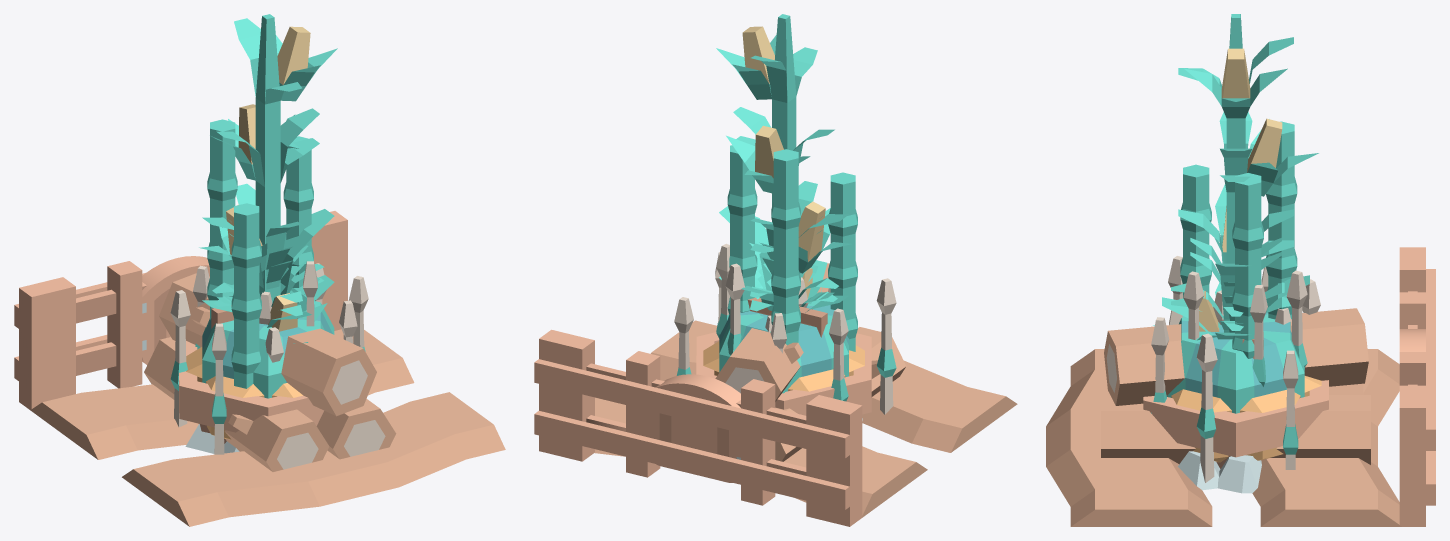
The model's file is crops.glb.
3 renders of one model, left to right at view 1: azimuth 30°, elevation 25°; view 2: azimuth 150°, elevation 25°; view 3: azimuth 270°, elevation 25°, orthographic. The views are drawn at different scales.
Parts seen in each view (by area): view 1: crops_dirtDoubleRow, log_stack, crops_bambooStageB, fence_simple, crops_cornStageC, crops_wheatStageB, Mesh fence_gate, corn (×4), fence_planks, pot_large, crop_melon, gate (+7 smaller); view 2: fence_planks, crops_dirtDoubleRow, crops_bambooStageB, fence_simple, corn (×3), crops_wheatStageB, Mesh fence_gate, log_stack, gate, crops_cornStageC, crop_melon, pot_large (+7 smaller); view 3: crops_dirtDoubleRow, log_stack, crops_bambooStageB, crops_wheatStageB, crop_melon, pot_large, corn (×3), fence_simple, fence_planks, crops_cornStageC, crops_cornStageB, campfire_stones (+7 smaller).
Boxes of the visible parts, <box> form: crops_dirtDoubleRow: <box>30,329,505,526</box>; log_stack: <box>144,273,396,471</box>; crops_bambooStageB: <box>207,119,313,388</box>; fence_simple: <box>19,211,347,410</box>; crops_cornStageC: <box>216,14,319,304</box>; crops_wheatStageB: <box>170,261,368,454</box>; Mesh fence_gate: <box>76,261,142,388</box>; corn (×4): <box>199,26,337,343</box>; fence_planks: <box>14,225,325,399</box>; pot_large: <box>179,341,353,443</box>; crop_melon: <box>202,301,334,398</box>; gate: <box>142,256,209,364</box>; fence_planks: <box>534,335,849,521</box>; crops_dirtDoubleRow: <box>594,320,1017,517</box>; crops_bambooStageB: <box>727,145,857,351</box>; fence_simple: <box>539,329,862,526</box>; corn (×3): <box>716,26,851,273</box>; crops_wheatStageB: <box>674,243,896,414</box>; Mesh fence_gate: <box>586,351,806,505</box>; log_stack: <box>715,263,906,461</box>; gate: <box>647,374,740,482</box>; crops_cornStageC: <box>736,14,834,307</box>; crop_melon: <box>719,293,848,391</box>; pot_large: <box>696,332,871,415</box>; crops_dirtDoubleRow: <box>1046,349,1401,526</box>; log_stack: <box>1101,308,1370,464</box>; crops_bambooStageB: <box>1180,121,1297,358</box>; crops_wheatStageB: <box>1151,256,1320,482</box>; crop_melon: <box>1167,313,1304,413</box>; pot_large: <box>1143,380,1328,468</box>; corn (×3): <box>1153,48,1318,340</box>; fence_simple: <box>1399,247,1425,526</box>; fence_planks: <box>1399,258,1435,505</box>; crops_cornStageC: <box>1178,14,1293,263</box>; crops_cornStageB: <box>1178,116,1293,332</box>; campfire_stones: <box>1178,451,1261,493</box>.
Bounding box in the file's own units: 1 × 1.25 × 1.03.
